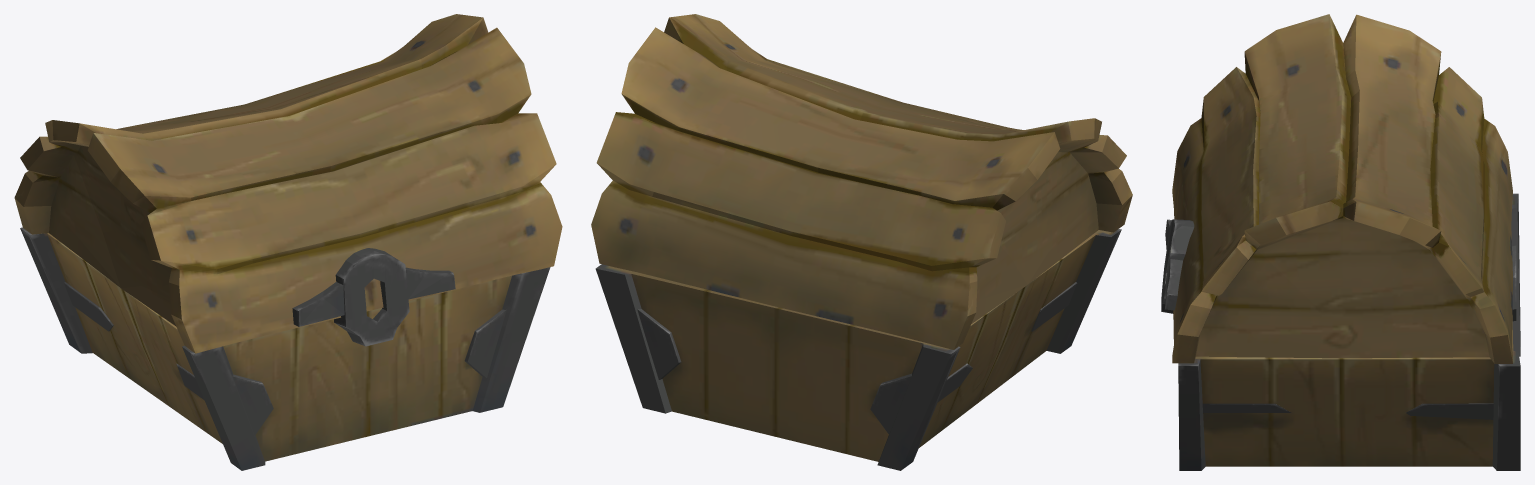
The model's file is normal.glb.
The picture shows the model from 3 angles, left to right: view 1: azimuth 30°, elevation 25°; view 2: azimuth 150°, elevation 25°; view 3: azimuth 270°, elevation 25°; orthographic projection.
Parts seen in each view (by area): view 1: Top, EnvUnit_TreasureBox_Normal_Bot; view 2: Top, EnvUnit_TreasureBox_Normal_Bot; view 3: Top, EnvUnit_TreasureBox_Normal_Bot.
Part boxes in pixels (x1,y1,x2,y2): Top: (14,14,562,353); EnvUnit_TreasureBox_Normal_Bot: (20,227,550,470); Top: (591,14,1132,349); EnvUnit_TreasureBox_Normal_Bot: (595,229,1121,470); Top: (1161,14,1512,363); EnvUnit_TreasureBox_Normal_Bot: (1178,193,1520,470).
Bounding box in the file's own units: 1.57 × 1.11 × 1.2.
1 material, 1 textured.
